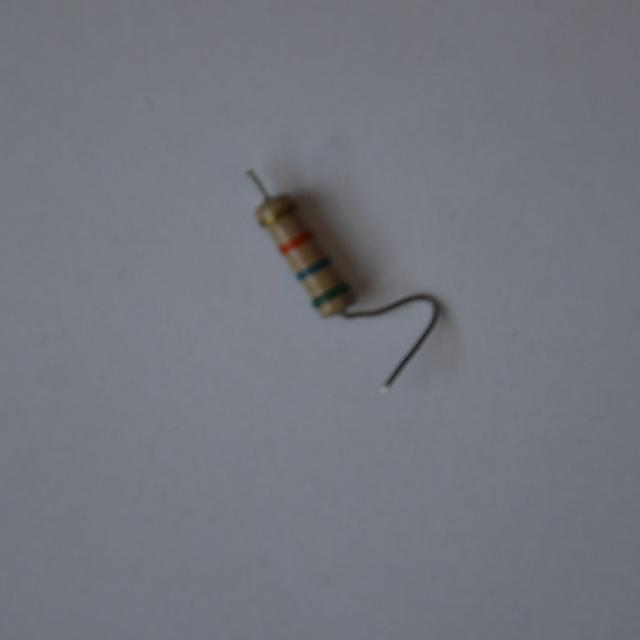blue: (296, 257, 330, 280)
gold: (261, 202, 295, 226)
green: (313, 283, 347, 306)
orange: (279, 232, 311, 253)
resistor: (238, 175, 368, 330)
